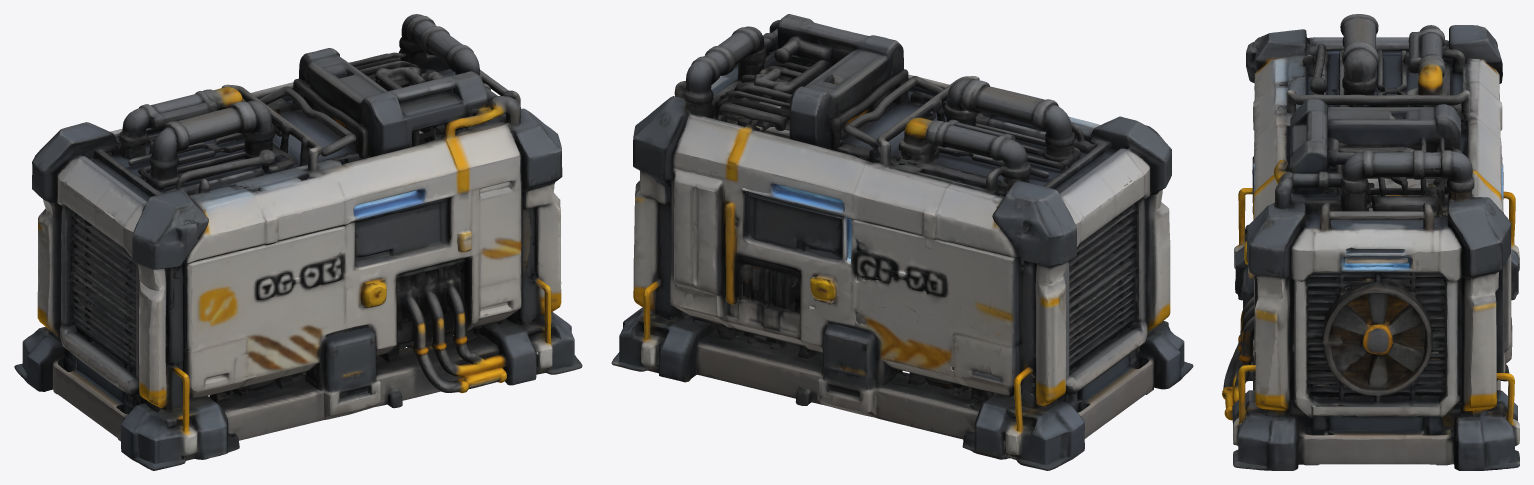
The model's file is generator.glb.
3 renders of one model, left to right at view 1: azimuth 30°, elevation 25°; view 2: azimuth 150°, elevation 25°; view 3: azimuth 270°, elevation 25°, orthographic. The views are drawn at different scales.
Visible parts, largest first — view 1: world; view 2: world; view 3: world.
Boxes of the visible parts, x1=… form: world: x1=14, y1=14, x2=582, y2=470; world: x1=611, y1=14, x2=1193, y2=470; world: x1=1222, y1=14, x2=1519, y2=470.
Size of the model in its own units: 3.2 by 2 by 1.87.
1 material, 1 textured.
